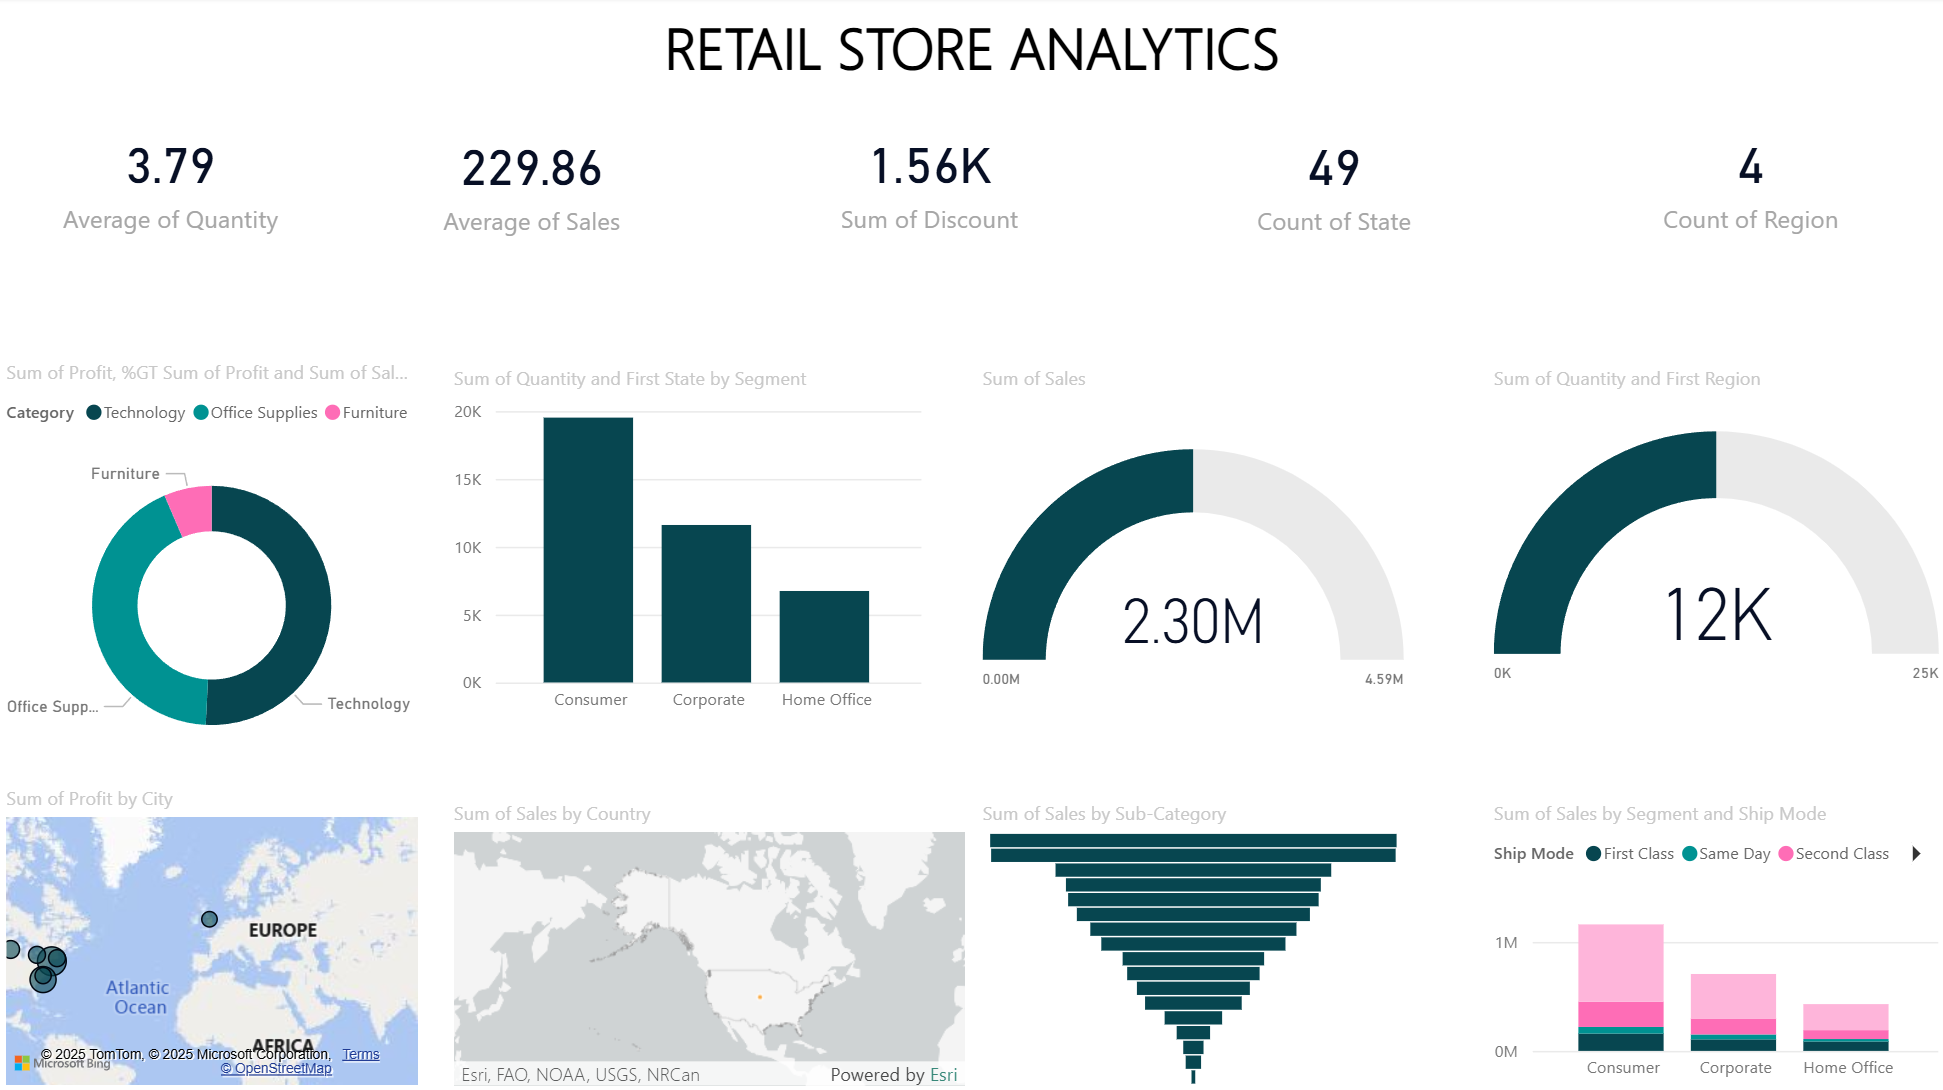

The page's visual inventory and layout, read from the dashboard file:
{"tool":"powerbi","page":{"name":"Page 1","canvas":[1280,720],"ordinal":0},"visuals":[{"type":"donutChart","fields":{"Category":["SampleSuperstore.Category"],"Y":["Sum(SampleSuperstore.Profit)"]},"box":[0,238.3,279.8,279.8],"z":0},{"type":"card","fields":{"Values":["Avg(SampleSuperstore.Sales)"]},"box":[225.9,2.1,248.7,236.3],"z":1000},{"type":"card","fields":{"Values":["Sum(SampleSuperstore.Discount)"]},"box":[474.6,0,273.6,238.3],"z":2000},{"type":"card","fields":{"Values":["Count(SampleSuperstore.State)"]},"box":[733.7,2.1,288.1,236.3],"z":3000},{"type":"card","fields":{"Values":["Avg(SampleSuperstore.Quantity)"]},"box":[0,0,225.9,238.3],"z":4000},{"type":"card","fields":{"Values":["Count(SampleSuperstore.Region)"]},"box":[1021.8,0,259.1,238.3],"z":5000},{"type":"clusteredColumnChart","fields":{"Y":["Sum(SampleSuperstore.Quantity)"],"Category":["SampleSuperstore.Segment"]},"box":[294.3,242.5,317.1,236.3],"z":6000},{"type":"map","fields":{"Category":["SampleSuperstore.City"],"Size":["Sum(SampleSuperstore.Profit)"]},"box":[0,518.2,280,202],"z":7000},{"type":"esriVisual","fields":{"Location":["SampleSuperstore.Country"],"Size":["Sum(SampleSuperstore.Sales)"]},"box":[294,528,345.7,192.2],"z":8000},{"type":"gauge","fields":{"Y":["Sum(SampleSuperstore.Sales)"]},"box":[641.1,242.4,286.7,252.8],"z":9000},{"type":"funnel","fields":{"Category":["SampleSuperstore.Sub-Category"],"Y":["Sum(SampleSuperstore.Sales)"]},"box":[641,528,287,192],"z":10000},{"type":"gauge","fields":{"Y":["Sum(SampleSuperstore.Quantity)"]},"box":[977.2,242.4,302.3,237.1],"z":11000},{"type":"columnChart","fields":{"Category":["SampleSuperstore.Segment"],"Y":["Sum(SampleSuperstore.Sales)"],"Series":["SampleSuperstore.Ship Mode"]},"box":[977,528,302,192],"z":12000},{"type":"textbox","box":[0,2.1,1278.8,80.8],"z":13000}]}

Visuals, with their boxes in screenshot pixels (x1, y1, x2, y2), scaled from the page's 1280x720 canvas onto the 1943x1090 screenshot:
donutChart - SampleSuperstore.Category x Sum(SampleSuperstore.Profit): box=[0, 361, 425, 784]
card - Avg(SampleSuperstore.Sales): box=[343, 3, 720, 361]
card - Sum(SampleSuperstore.Discount): box=[720, 0, 1136, 361]
card - Count(SampleSuperstore.State): box=[1114, 3, 1551, 361]
card - Avg(SampleSuperstore.Quantity): box=[0, 0, 343, 361]
card - Count(SampleSuperstore.Region): box=[1551, 0, 1942, 361]
clusteredColumnChart - Sum(SampleSuperstore.Quantity) x SampleSuperstore.Segment: box=[447, 367, 928, 725]
map - SampleSuperstore.City x Sum(SampleSuperstore.Profit): box=[0, 784, 425, 1089]
esriVisual - SampleSuperstore.Country x Sum(SampleSuperstore.Sales): box=[446, 799, 971, 1089]
gauge - Sum(SampleSuperstore.Sales): box=[973, 367, 1408, 750]
funnel - SampleSuperstore.Sub-Category x Sum(SampleSuperstore.Sales): box=[973, 799, 1409, 1089]
gauge - Sum(SampleSuperstore.Quantity): box=[1483, 367, 1942, 726]
columnChart - SampleSuperstore.Segment x Sum(SampleSuperstore.Sales): box=[1483, 799, 1941, 1089]
textbox: box=[0, 3, 1941, 126]
